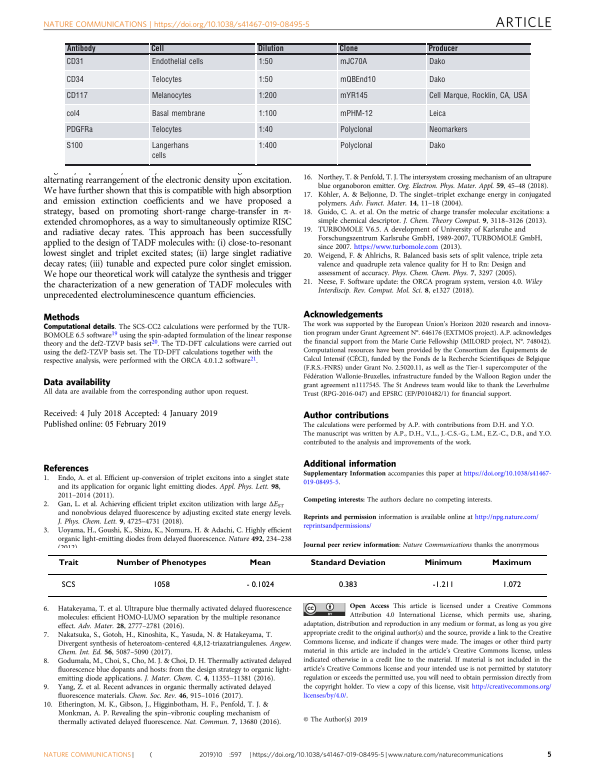borderless: (65, 42, 531, 164), (47, 553, 547, 596)
cell: (428, 91, 528, 101), (115, 558, 207, 567), (150, 141, 189, 161), (309, 558, 386, 567), (150, 109, 206, 118), (150, 57, 204, 66), (150, 91, 192, 101), (428, 125, 468, 135), (491, 558, 532, 567), (423, 558, 462, 567), (339, 125, 373, 135), (339, 141, 373, 151), (339, 75, 376, 84), (150, 125, 182, 135), (65, 44, 96, 54), (427, 44, 458, 54), (339, 109, 373, 118), (339, 91, 368, 101), (150, 75, 182, 84), (256, 44, 284, 54), (65, 125, 93, 135), (339, 57, 367, 66), (245, 580, 275, 588), (65, 91, 88, 101), (248, 558, 271, 567), (338, 44, 358, 54), (257, 91, 277, 101), (257, 141, 277, 151), (57, 558, 79, 567), (431, 580, 454, 588), (257, 109, 277, 118), (65, 141, 83, 151), (428, 141, 446, 151), (65, 57, 84, 66), (65, 75, 84, 84), (501, 580, 522, 588), (428, 57, 446, 66), (428, 75, 446, 84), (428, 109, 446, 118), (338, 580, 358, 588), (257, 125, 273, 135), (152, 580, 170, 588), (257, 57, 273, 66), (257, 75, 273, 84), (150, 44, 164, 54), (65, 109, 80, 118), (60, 580, 76, 588)
